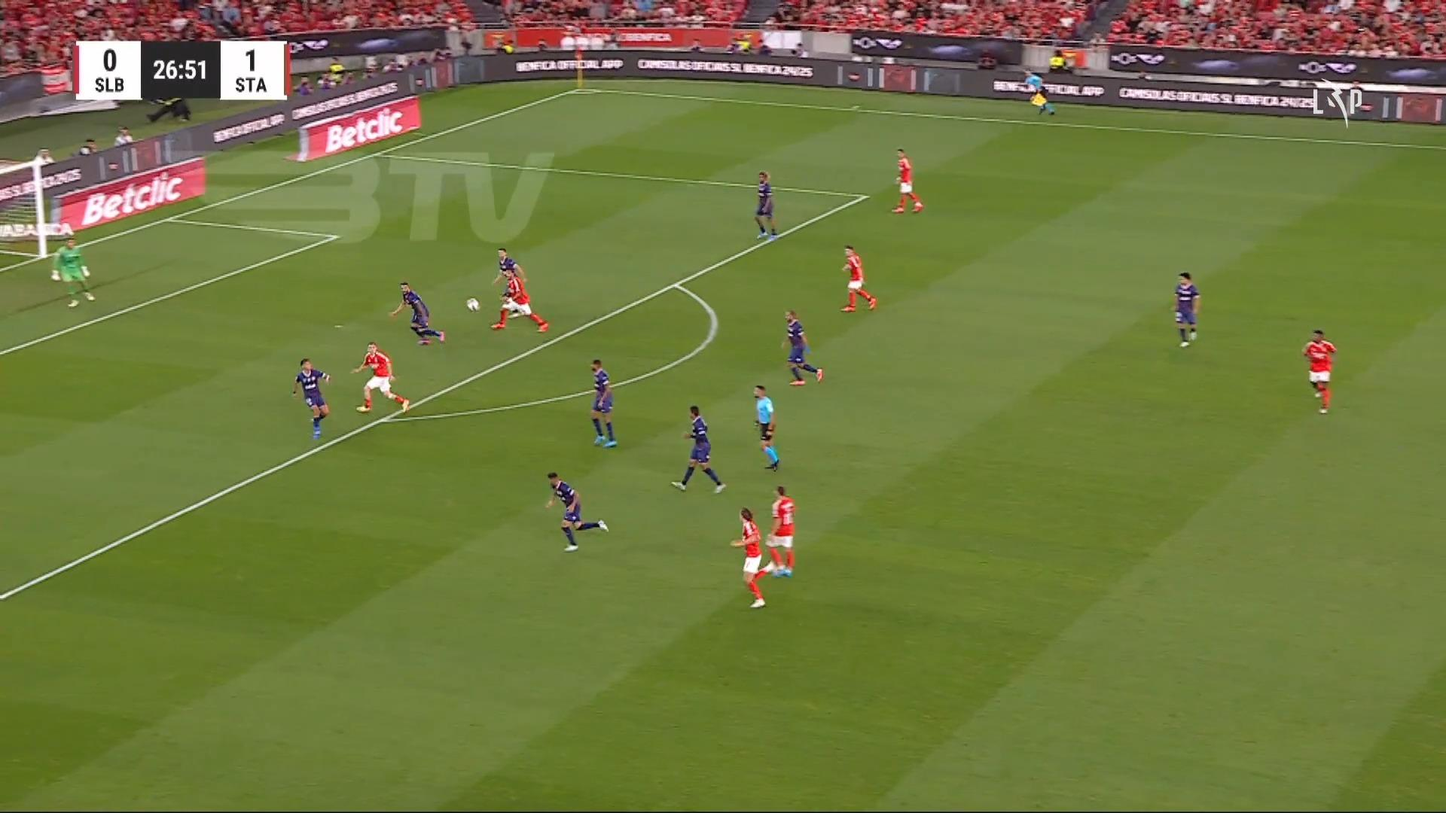ball: (465, 297, 480, 312)
goalkeeper: (50, 236, 95, 307)
player: (545, 470, 609, 552), (670, 404, 728, 494), (350, 341, 410, 413), (490, 263, 550, 333), (730, 507, 767, 608), (389, 281, 446, 346), (291, 357, 331, 440), (781, 309, 824, 385), (762, 485, 796, 577), (1301, 328, 1337, 413), (588, 358, 617, 447), (840, 243, 877, 312), (890, 147, 924, 213), (493, 247, 525, 315), (1172, 271, 1200, 347), (753, 170, 778, 241)
referee: (752, 384, 780, 470), (1022, 66, 1056, 116)
